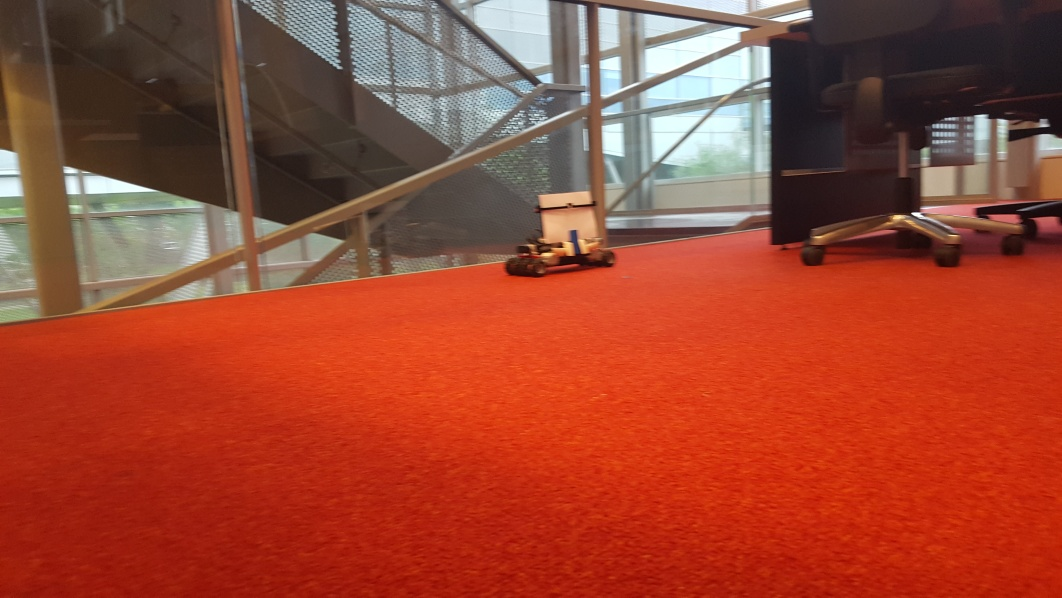car: (504, 190, 620, 280)
